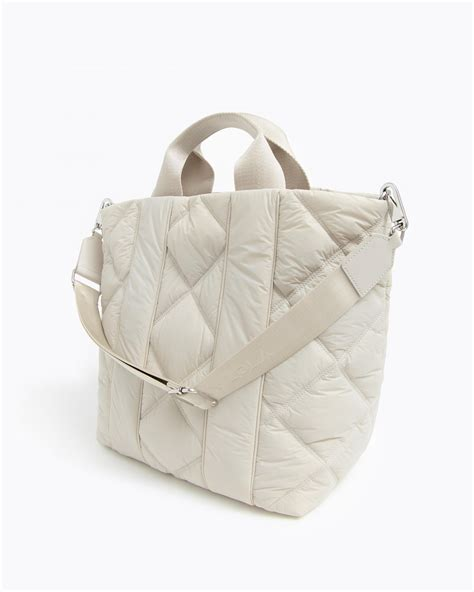nylon: (71, 189, 394, 518)
